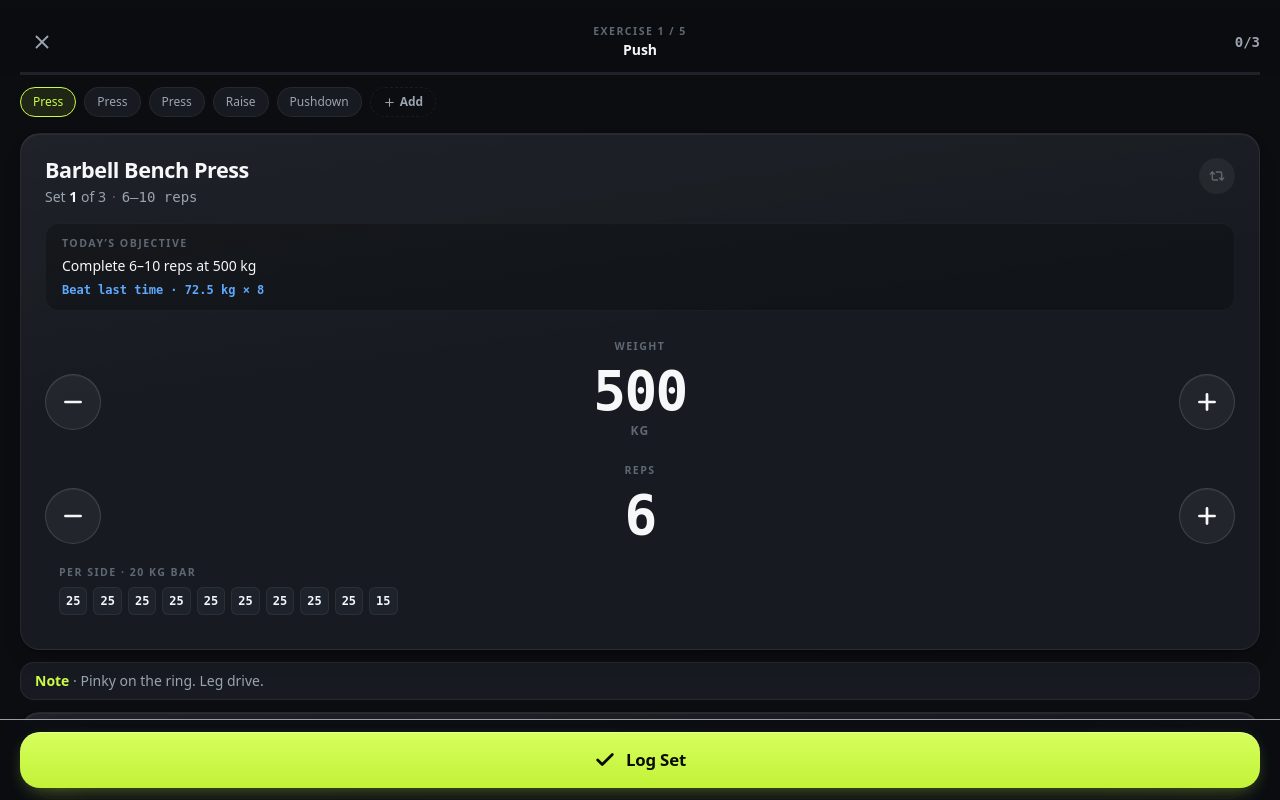
Test: GymMode integration › lights up the beat marker and PR celebration when a record set is logged
Step 1. Click the button "Log Set" → (640,760), box [20,732,1260,788]
(page scrolled)
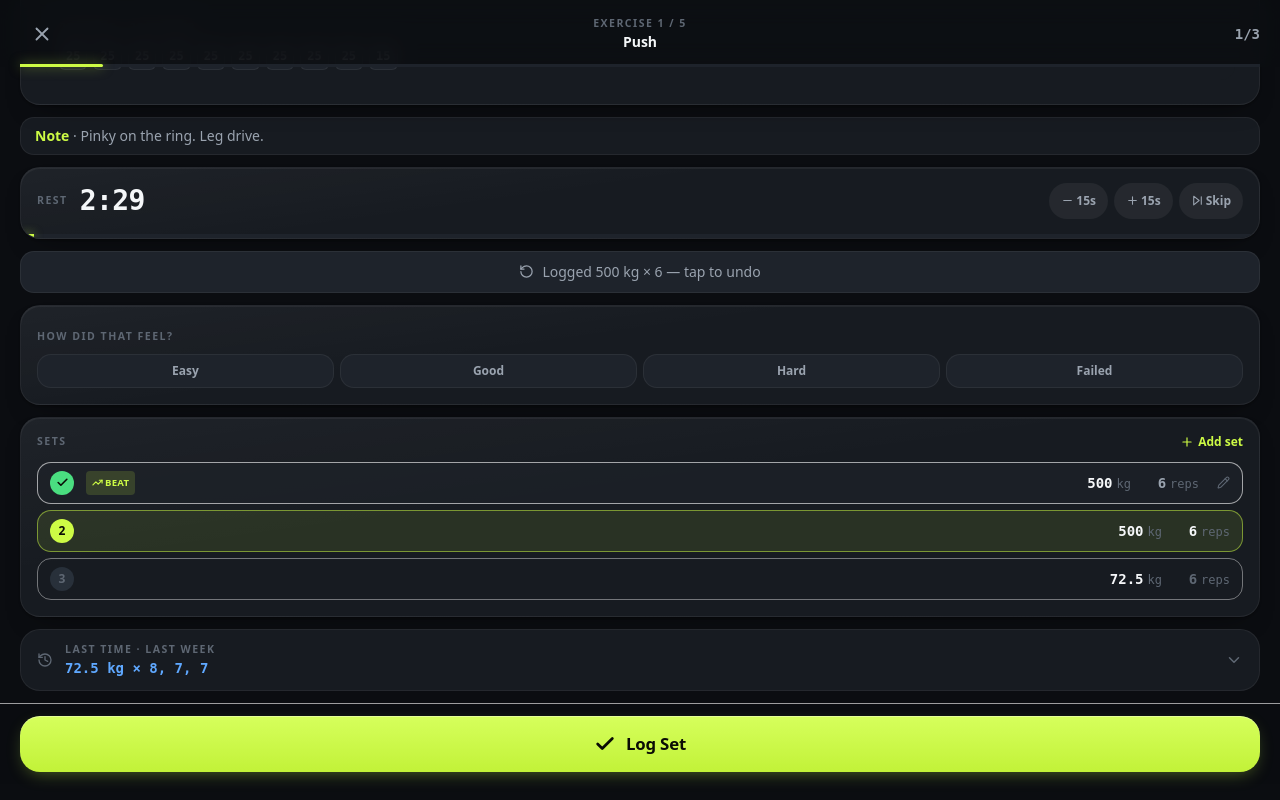
Expected: the element named "Beat last time" is shown, [86,471,135,495]
